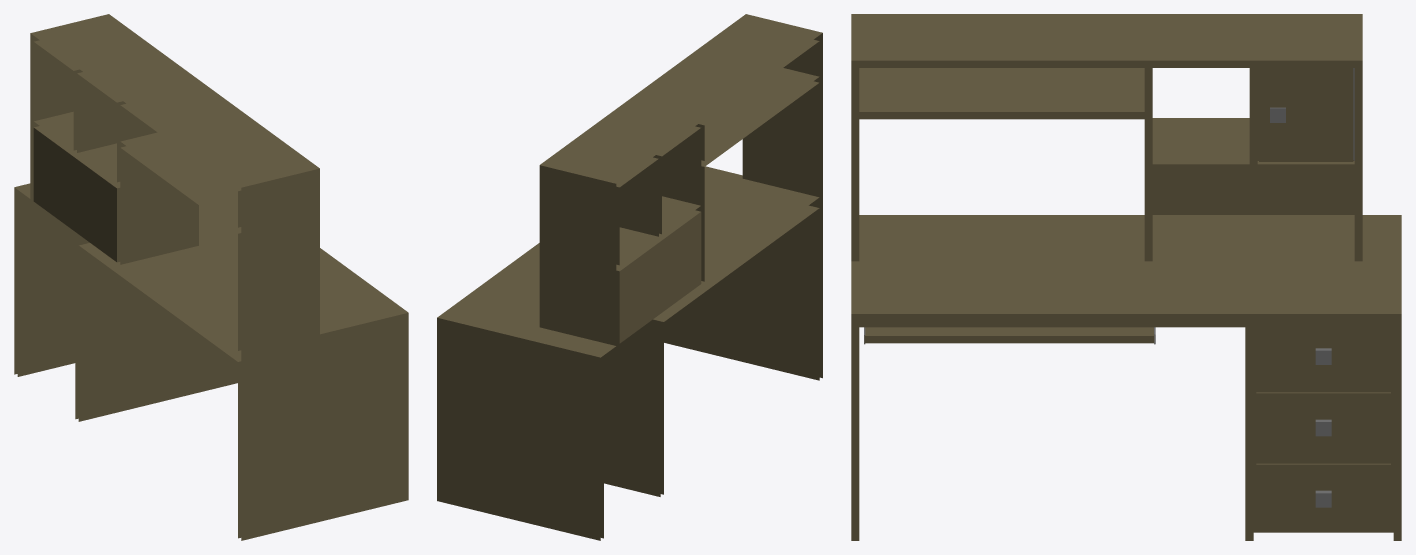
File: desk_compaq.glb
The picture shows the model from 3 angles, left to right: view 1: azimuth 30°, elevation 25°; view 2: azimuth 150°, elevation 25°; view 3: azimuth 270°, elevation 25°; orthographic projection. The views are drawn at different scales.
Visible parts, largest first — view 1: Cube; view 2: Cube; view 3: Cube.
Part boxes in pixels (box(x1,y1,x2,y2)): Cube: box(14, 14, 408, 540); Cube: box(437, 14, 822, 540); Cube: box(851, 14, 1401, 540).
Bounding box in the file's own units: 0.4253 × 0.8579 × 1.
